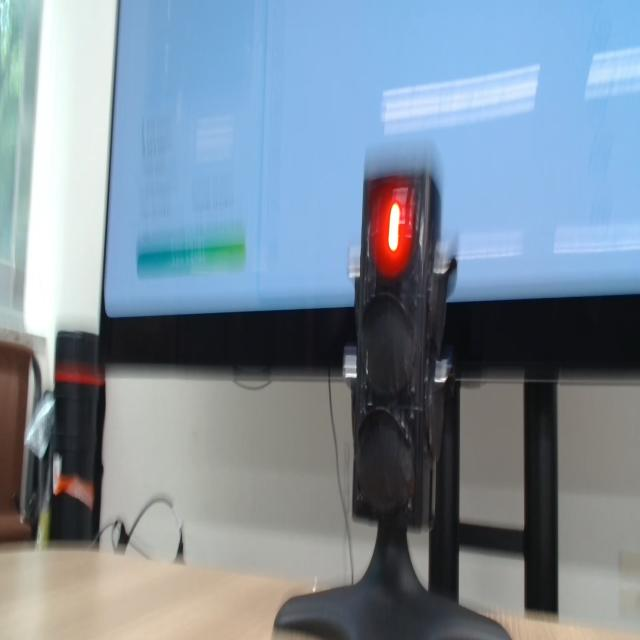red_light: (368, 181, 414, 279)
